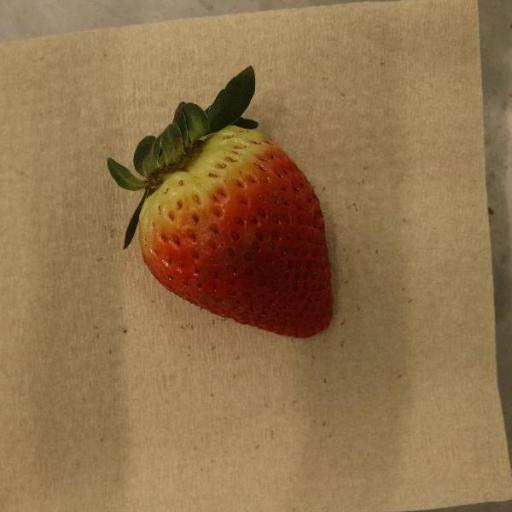Strawberry: (107, 66, 335, 340)
